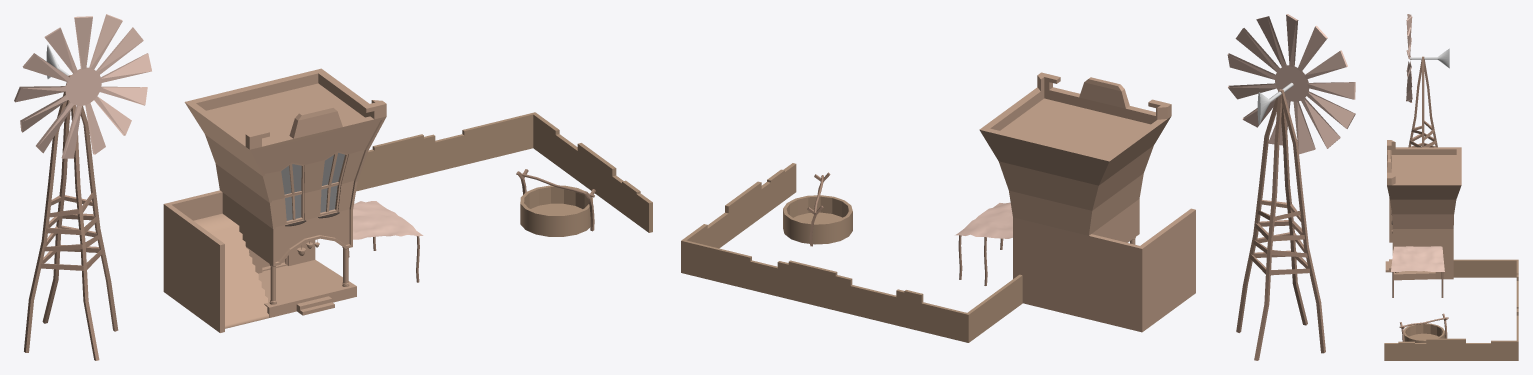
Rendered from RevizzeDesert2fbx.fbx.
3 views of the same model, side by side, from view 1: azimuth 30°, elevation 25°; view 2: azimuth 150°, elevation 25°; view 3: azimuth 270°, elevation 25° (orthographic). The views are drawn at different scales.
Visible parts, largest first — view 1: Box003, Plane004, Cylinder006, Box007, Box002, Plane001, Cylinder011, Box010, Box011, Plane002, Object001, Box009 (+2 smaller); view 2: Box003, Plane004, Box007, Cylinder006, Box002, Cylinder011, Box011, Box010, Box009, Plane002, Box008; view 3: Box003, Plane004, Plane002, Box002, Cylinder011, Cylinder006, Box011, Box010, Box008, Cylinder007, Box007.
Boxes of the visible parts, <box> form: Box003: <box>184,68,386,266</box>; Plane004: <box>356,112,652,232</box>; Cylinder006: <box>14,14,151,158</box>; Box007: <box>163,190,224,332</box>; Box002: <box>223,213,356,317</box>; Plane001: <box>193,213,268,328</box>; Cylinder011: <box>520,185,592,236</box>; Box010: <box>40,105,103,360</box>; Box011: <box>42,75,99,323</box>; Plane002: <box>353,201,423,239</box>; Object001: <box>281,153,344,220</box>; Box009: <box>24,76,70,352</box>; Box003: <box>979,72,1171,271</box>; Plane004: <box>681,163,1022,342</box>; Box007: <box>1089,208,1195,332</box>; Cylinder006: <box>1227,14,1355,154</box>; Box002: <box>1013,245,1088,319</box>; Cylinder011: <box>783,195,852,244</box>; Box011: <box>1250,90,1309,360</box>; Box010: <box>1254,89,1308,325</box>; Box009: <box>1281,90,1325,353</box>; Plane002: <box>955,202,1012,238</box>; Box008: <box>1236,89,1280,332</box>; Box003: <box>1387,140,1461,250</box>; Plane004: <box>1384,259,1518,360</box>; Plane002: <box>1391,246,1444,271</box>; Box002: <box>1392,242,1453,280</box>; Cylinder011: <box>1403,323,1445,342</box>; Cylinder006: <box>1406,14,1412,102</box>; Box011: <box>1423,57,1437,147</box>; Box010: <box>1408,56,1422,147</box>; Box008: <box>1422,57,1424,147</box>; Cylinder007: <box>1410,48,1449,68</box>; Box007: <box>1389,198,1392,242</box>.
Bounding box in the file's own units: 704 × 365 × 233.
